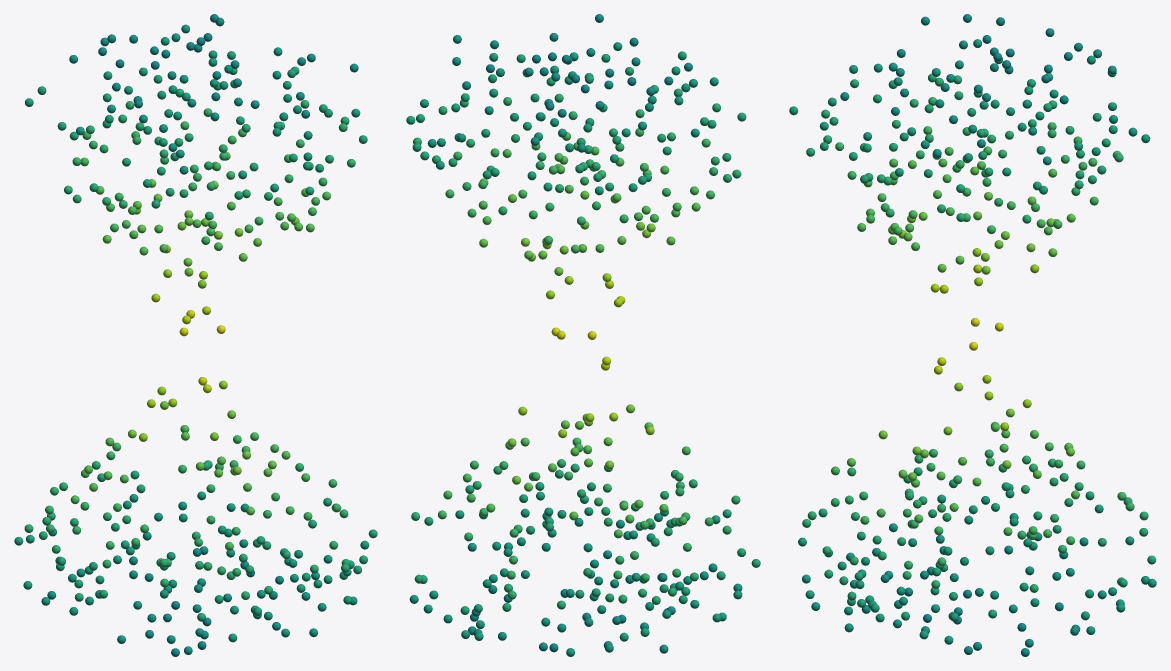
Rendered from hourglass-points.glb.
The picture shows the model from 3 angles, left to right: view 1: azimuth 30°, elevation 25°; view 2: azimuth 150°, elevation 25°; view 3: azimuth 270°, elevation 25°; orthographic projection.
Parts seen in each view (by area): view 1: Renderer Node; view 2: Renderer Node; view 3: Renderer Node.
Part boxes in pixels (left/top/right/bottom): Renderer Node: left=14, top=14, right=377, bottom=656; Renderer Node: left=406, top=14, right=760, bottom=656; Renderer Node: left=789, top=14, right=1156, bottom=656.
Size of the model in its own units: 0.5551 by 1.01 by 0.5762.
1 material, 1 textured.
